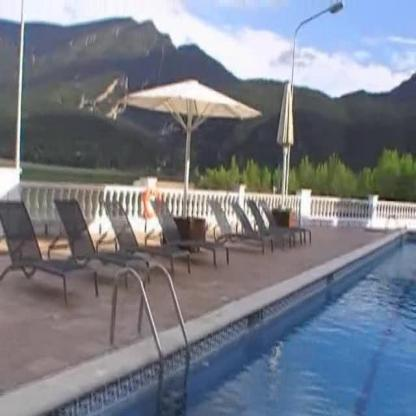other: (95, 174, 382, 230)
